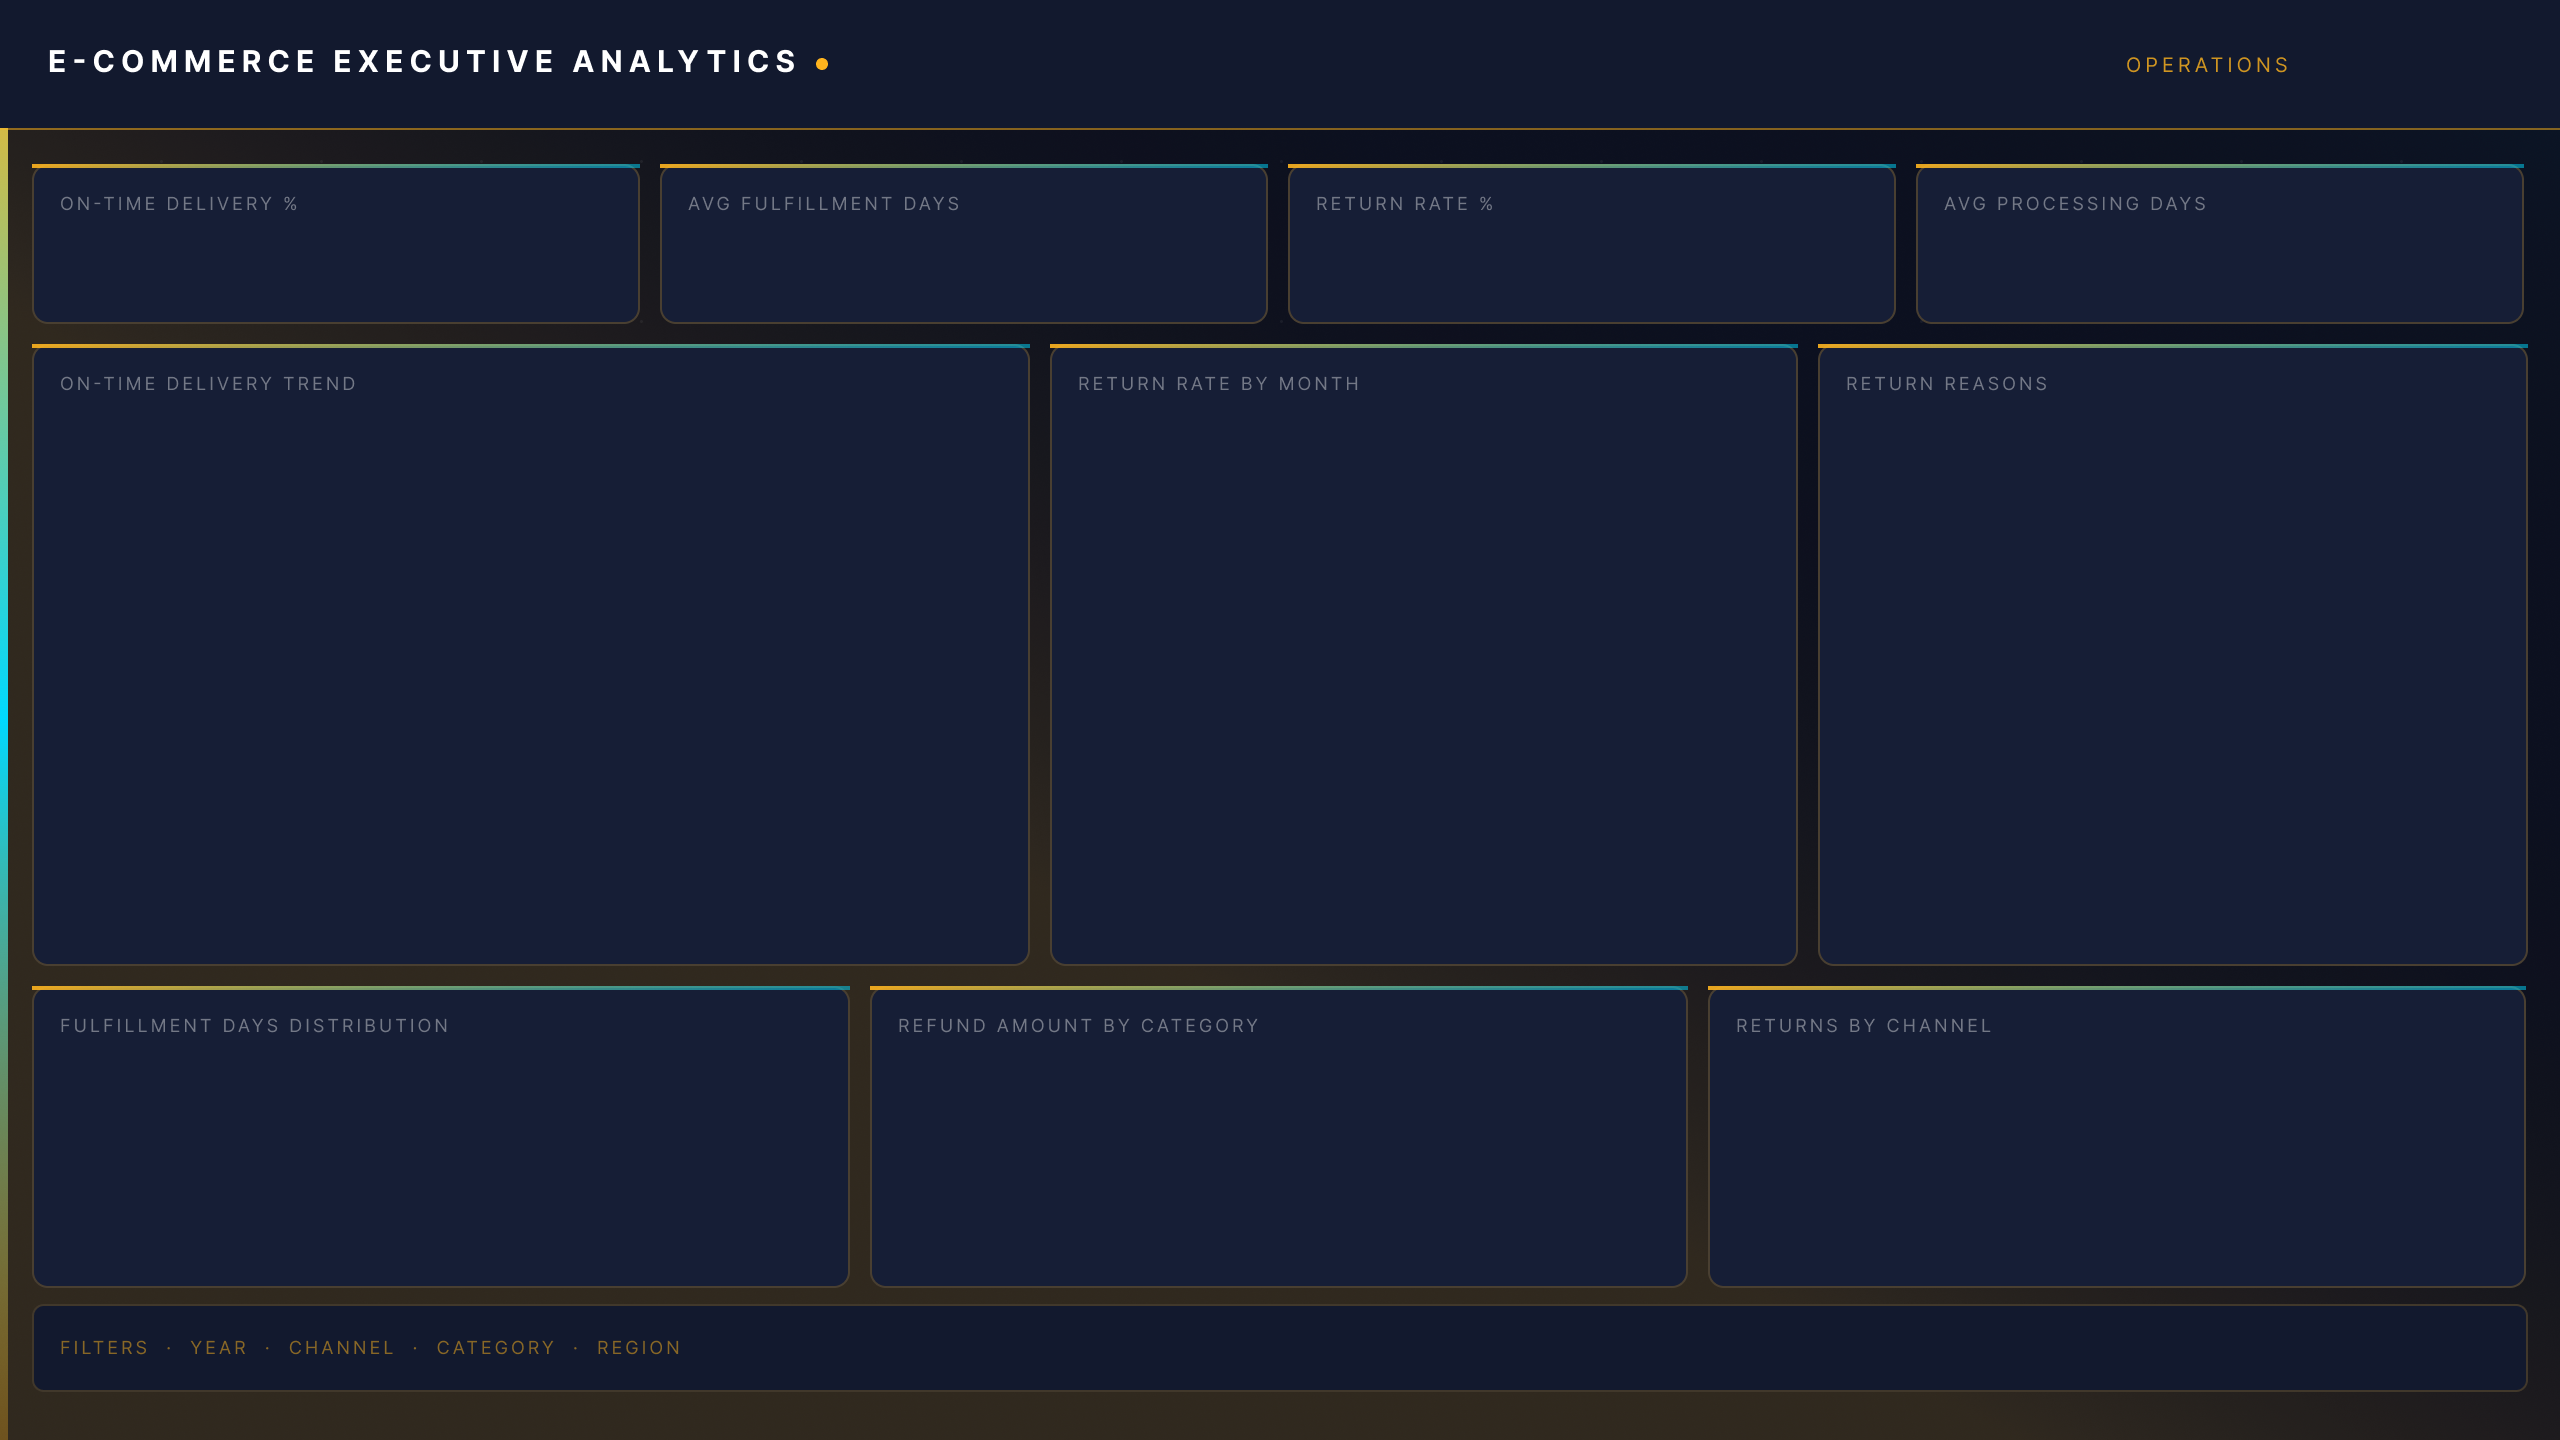

What the dashboard file says about the page in this screenshot:
{"tool":"powerbi","page":{"name":"Operations","canvas":[1280,720],"ordinal":3},"visuals":[{"type":"cardVisual","fields":{"Data":["_Measures.On-Time Delivery %"]},"box":[16,88,304,80],"z":0},{"type":"cardVisual","fields":{"Data":["_Measures.Avg Fulfillment Days"]},"box":[328,88,304,80],"z":1000},{"type":"cardVisual","fields":{"Data":["_Measures.Return Rate %"]},"box":[640,88,304,80],"z":2000},{"type":"cardVisual","fields":{"Data":["_Measures.Avg Processing Days"]},"box":[960,88,304,80],"z":3000},{"type":"lineChart","fields":{"Category":["dim_date.MonthLabel"],"Y":["_Measures.On-Time Delivery %"]},"box":[16,200,496,280],"z":4000},{"type":"lineChart","fields":{"Category":["dim_date.MonthLabel"],"Y":["_Measures.Return Rate %"]},"box":[528,200,368,280],"z":5000},{"type":"clusteredBarChart","fields":{"Category":["fact_returns.ReturnReason"],"Y":["_Measures.Total Returns"]},"box":[912,200,352,280],"z":6000}]}

Visuals, with their boxes in screenshot pixels (x1, y1, x2, y2), scaled from the page's 1280x720 canvas onto the 2560x1440 screenshot:
cardVisual - _Measures.On-Time Delivery %: <region>32, 176, 640, 336</region>
cardVisual - _Measures.Avg Fulfillment Days: <region>656, 176, 1264, 336</region>
cardVisual - _Measures.Return Rate %: <region>1280, 176, 1888, 336</region>
cardVisual - _Measures.Avg Processing Days: <region>1920, 176, 2528, 336</region>
lineChart - dim_date.MonthLabel x _Measures.On-Time Delivery %: <region>32, 400, 1024, 960</region>
lineChart - dim_date.MonthLabel x _Measures.Return Rate %: <region>1056, 400, 1792, 960</region>
clusteredBarChart - fact_returns.ReturnReason x _Measures.Total Returns: <region>1824, 400, 2528, 960</region>
